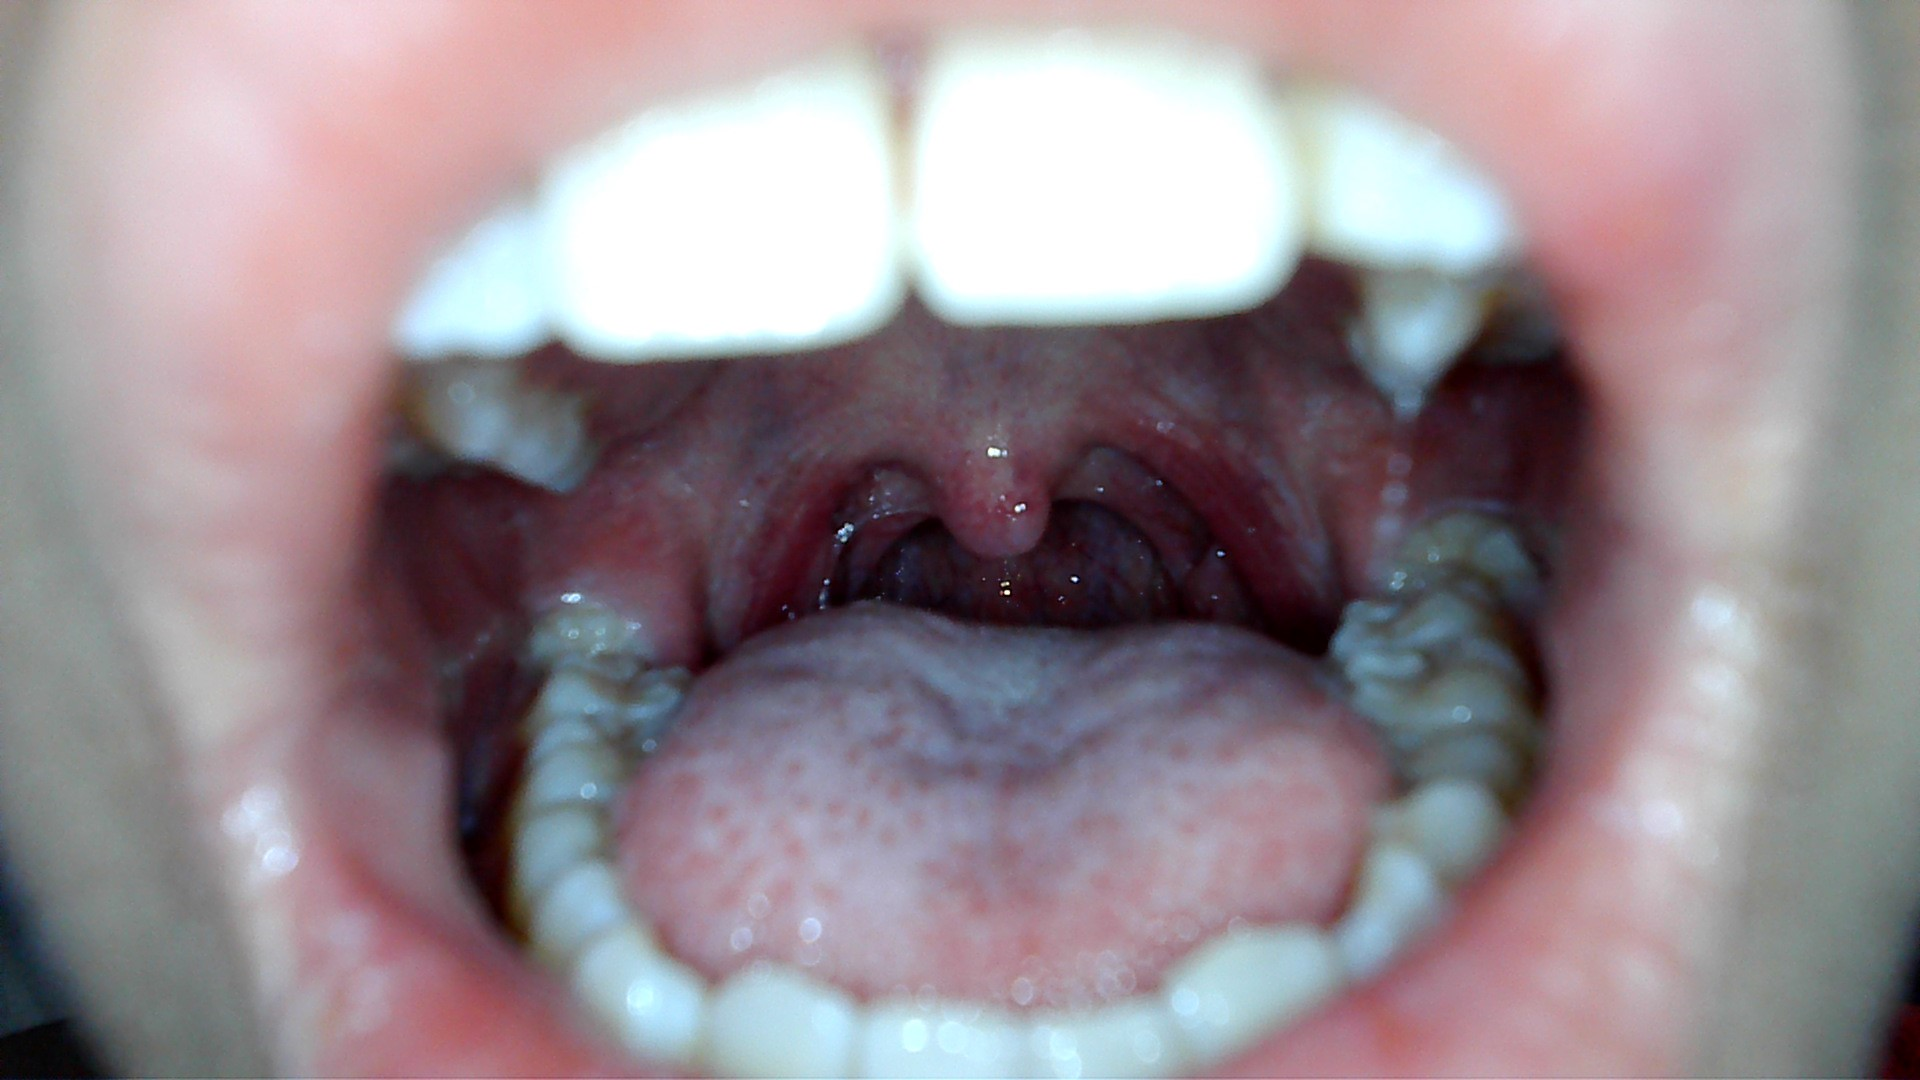throat: (1077, 392, 1302, 596), (735, 425, 882, 628)
